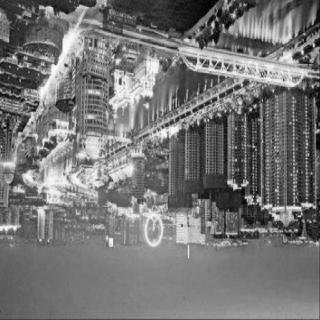other: (24, 89, 132, 213)
